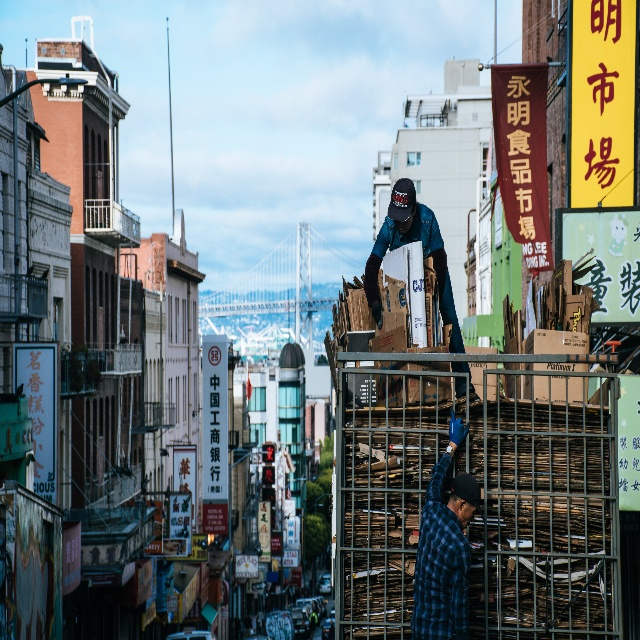Guantes: (447, 407, 471, 449), (371, 299, 384, 331)
